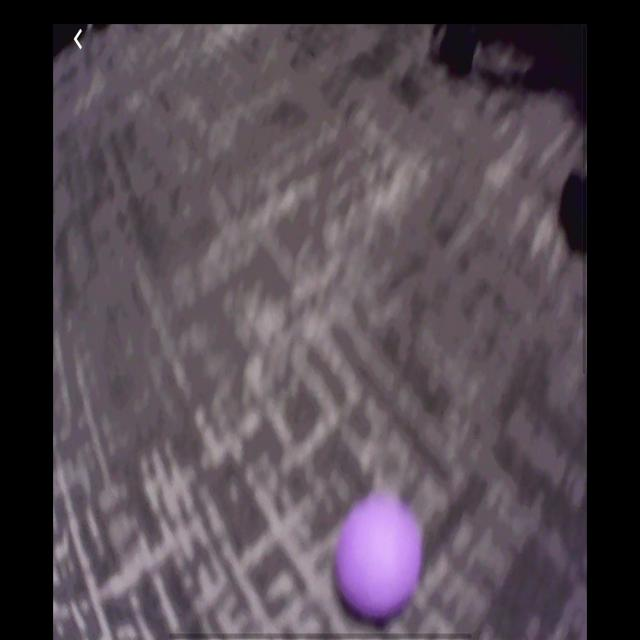ball: (334, 488, 424, 627)
